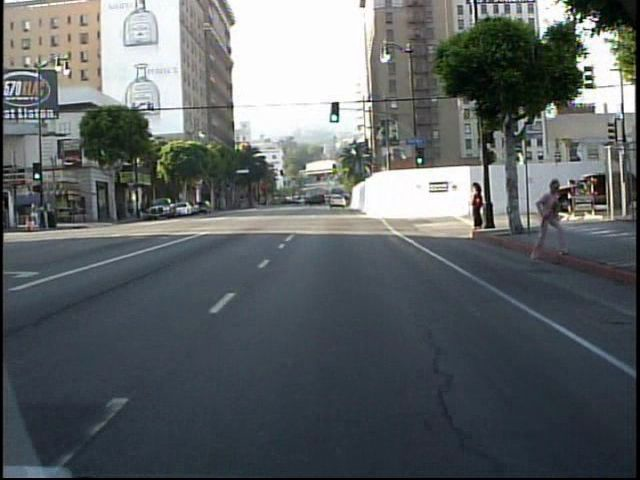person: (530, 174, 565, 268), (470, 180, 485, 233)
